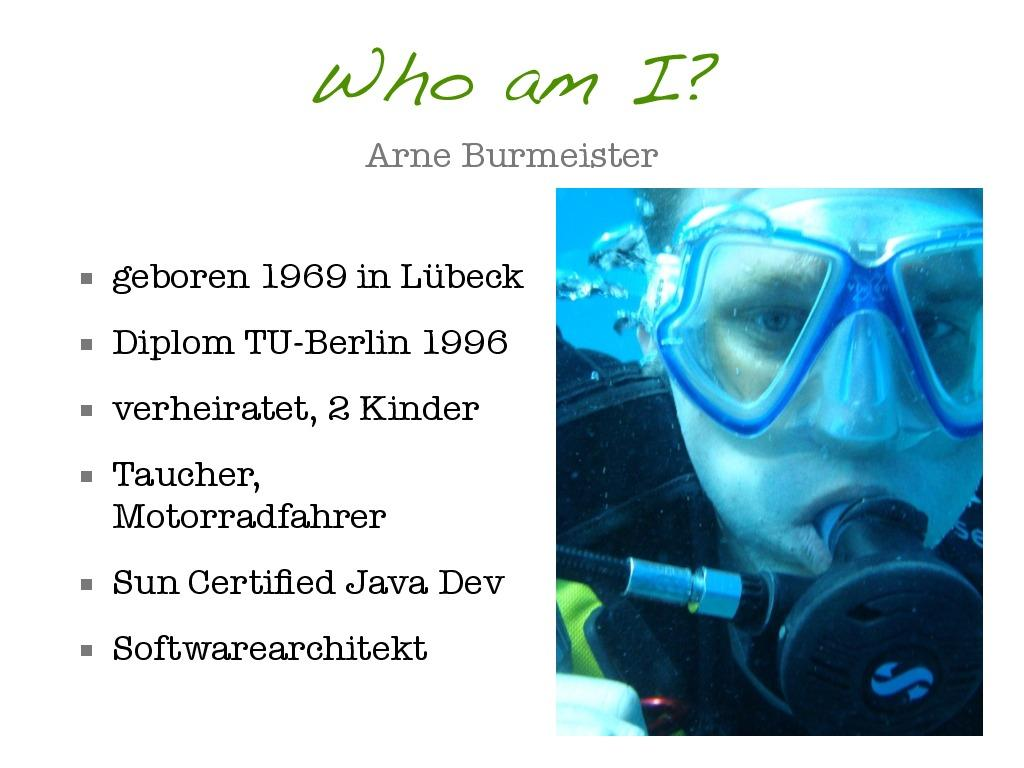paragraph: (49, 225, 545, 686)
title: (295, 40, 723, 170)
